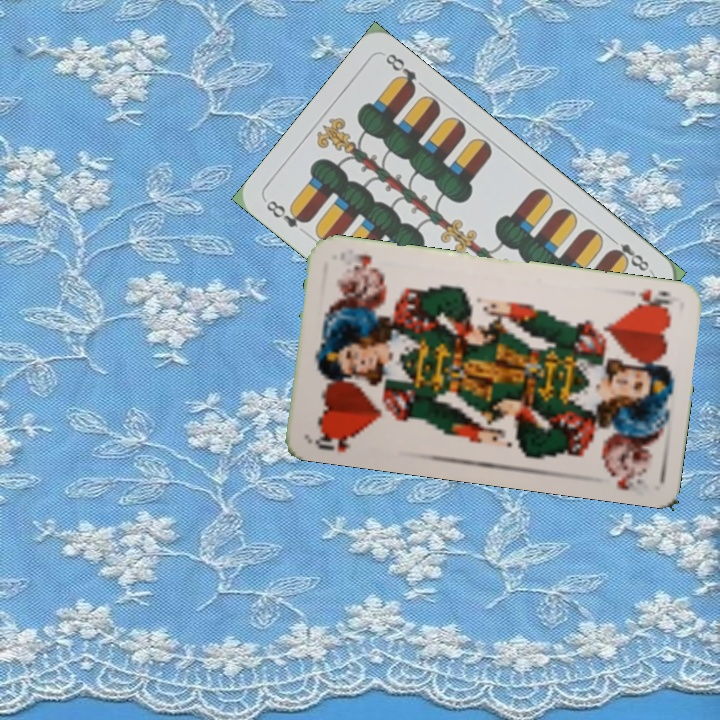E8: (605, 232, 652, 274), (262, 196, 312, 230)
HO: (628, 285, 679, 313), (310, 427, 358, 455)
